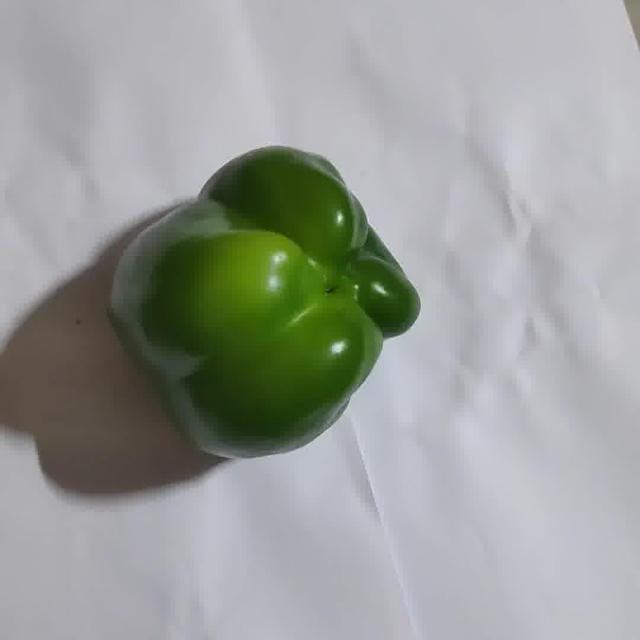Bell Pepper: (112, 147, 419, 457)
